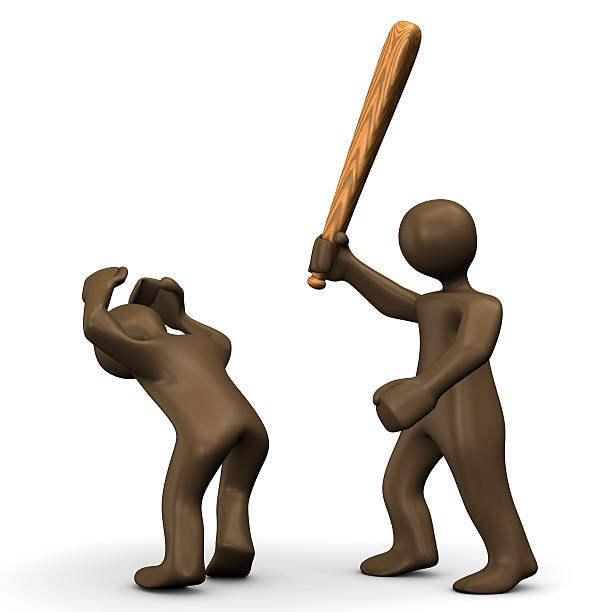bita: (308, 19, 425, 290)
